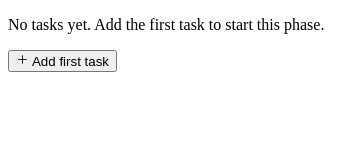
Test: phase creation controls › offers first-task recovery to editors and explains viewer restrictions
The image size is (341, 160).
Step 1. Click the button "Add first task" → click(62, 61), box [8,50,117,72]
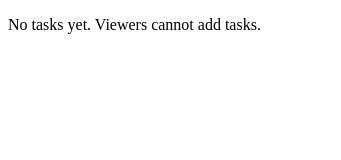
Expected: the text "Viewers cannot add tasks" is shown, [8,16,261,33]
Expected: the button "Add first task" is gone
